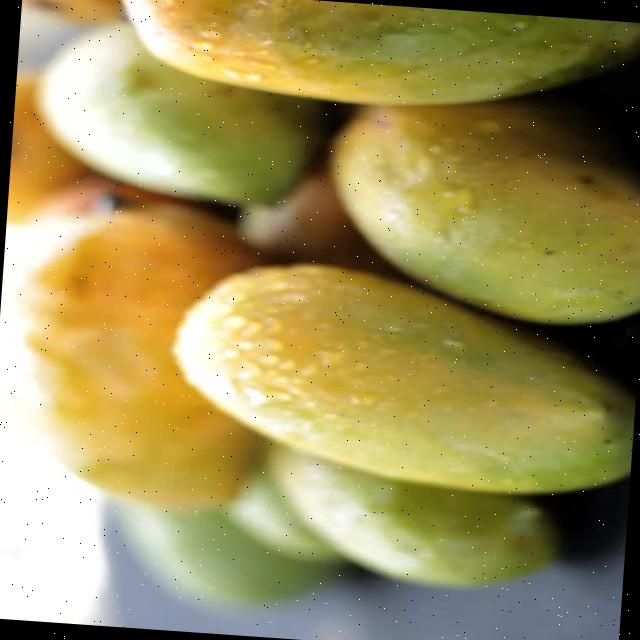mango: (173, 263, 632, 492), (18, 205, 262, 504), (335, 99, 640, 322), (125, 0, 640, 104), (38, 23, 322, 202), (269, 444, 557, 586)
